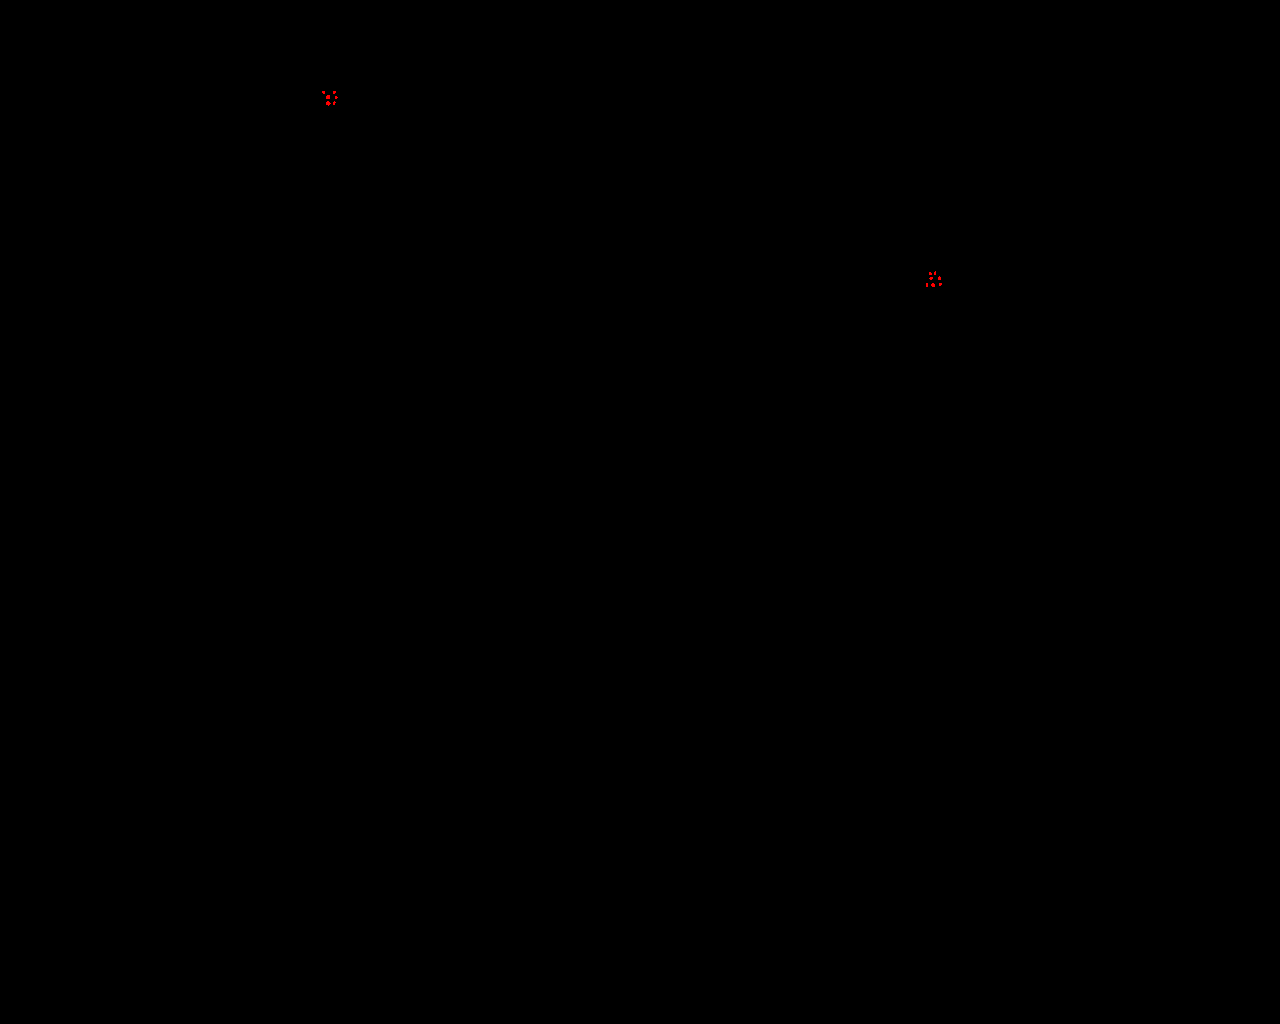Target: (326, 101, 331, 106), (326, 95, 330, 99), (931, 283, 935, 287), (938, 276, 941, 280), (929, 277, 933, 280), (322, 91, 325, 94), (333, 91, 336, 94), (333, 101, 336, 104), (929, 272, 932, 275), (939, 283, 942, 286), (934, 271, 936, 275), (926, 283, 928, 287), (335, 96, 338, 99)
